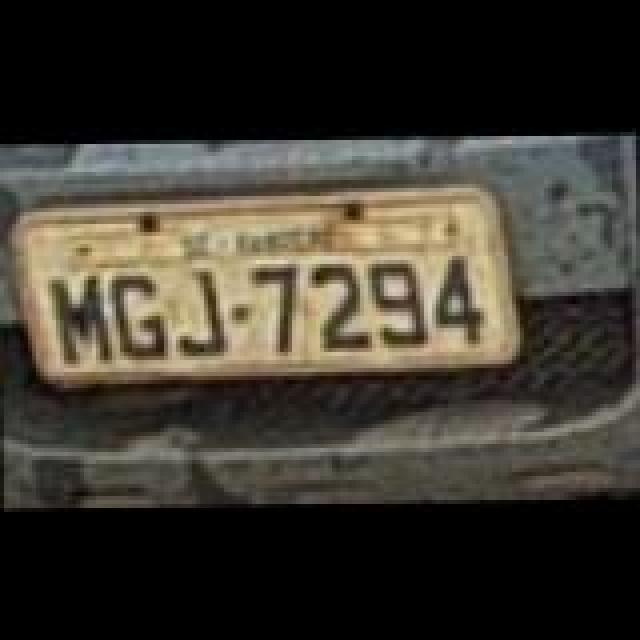2: (316, 260, 372, 348)
4: (428, 254, 484, 342)
7: (254, 262, 306, 354)
9: (372, 254, 428, 342)
G: (112, 272, 168, 360)
J: (174, 266, 226, 354)
M: (54, 270, 114, 362)
